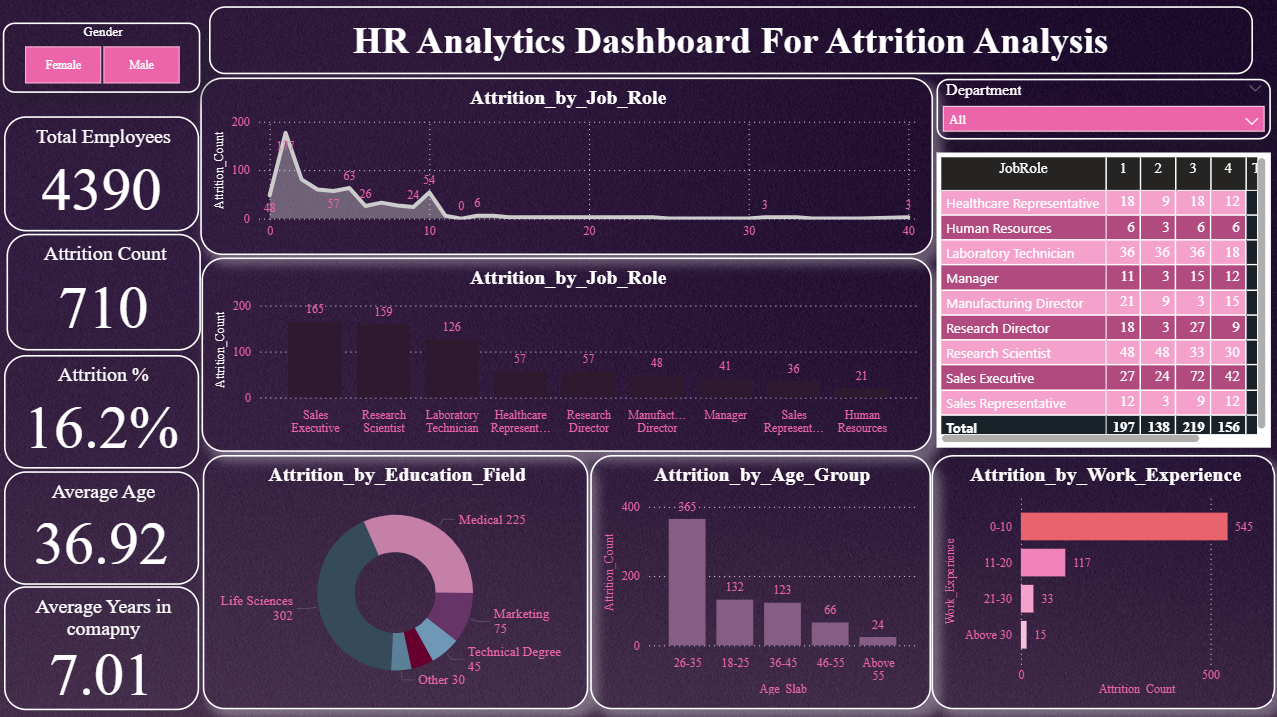

The dashboard page shown, as its layout file describes it:
{"tool":"powerbi","page":{"name":"Attrition Dashboard","canvas":[1280,720],"ordinal":0},"visuals":[{"type":"card","title":"Total Employees","fields":{"Values":["Sum(Attrition data (1).EmployeeCount)"]},"box":[5.4,115.7,195.6,115],"z":0},{"type":"card","title":"Attrition Count","fields":{"Values":["Sum(Attrition data (1).Attrition_count)"]},"box":[6.9,233.6,194.1,116.5],"z":1000},{"type":"donutChart","title":"Attrition_by_Education_Field","fields":{"Category":["Attrition data (1).EducationField"],"Y":["Sum(Attrition data (1).Attrition_count)"]},"box":[204,455.3,385.6,254.4],"z":2000},{"type":"card","title":"Average Age","fields":{"Values":["Avg(Attrition data (1).Age)"]},"box":[5.4,470.9,195.6,113.6],"z":3000},{"type":"clusteredColumnChart","title":"Attrition_by_Age_Group","fields":{"Y":["Sum(Attrition data (1).Attrition_count)"],"Category":["Attrition data (1).Age_group"]},"box":[590.7,455.1,340.8,254.5],"z":4000},{"type":"card","title":"Attrition %","fields":{"Values":["Attrition data (1).Attrition %"]},"box":[5.4,354.4,195.6,113.6],"z":5000},{"type":"clusteredBarChart","title":"Attrition_by_Work_Experience","fields":{"Y":["Sum(Attrition data (1).Attrition_count)"],"Category":["Attrition data (1).TotalWorkingYears (groups)"]},"box":[932.9,455.3,345,254.4],"z":6000},{"type":"card","title":"Average Years in comapny","fields":{"Values":["Avg(Attrition data (1).YearsAtCompany)"]},"box":[5.3,586.7,195.6,123.7],"z":7000},{"type":"clusteredColumnChart","title":"Attrition_by_Job_Role","fields":{"Y":["Sum(Attrition data (1).Attrition_count)"],"Category":["Attrition data (1).JobRole"]},"box":[202.9,257.6,730,194.4],"z":8000},{"type":"areaChart","title":"Attrition_by_Job_Role","fields":{"Category":["Attrition data (1).YearsAtCompany"],"Y":["Sum(Attrition data (1).Attrition_count)"]},"box":[201.5,77,732.5,177.5],"z":9000},{"type":"slicer","title":"Gender","fields":{"Values":["Attrition data (1).Gender"]},"box":[4,22,197.5,70],"z":10000},{"type":"textbox","box":[210,6,1044,68],"z":11000},{"type":"slicer","title":"Gender","fields":{"Values":["Attrition data (1).Department"]},"box":[937.3,78.7,334.4,61.1],"z":12000},{"type":"pivotTable","fields":{"Rows":["Attrition data (1).JobRole"],"Columns":["Attrition data (1).JobSatisfaction"],"Values":["Sum(Attrition data (1).Attrition_count)"]},"box":[937.3,153.1,334.4,295.6],"z":13000}]}

Visuals, with their boxes in screenshot pixels (x1, y1, x2, y2), scaled from the page's 1280x720 canvas onto the 1277x717 screenshot:
"Total Employees" card: Rect(5, 115, 201, 230)
"Attrition Count" card: Rect(7, 233, 201, 349)
"Attrition_by_Education_Field" donutChart: Rect(204, 453, 588, 707)
"Average Age" card: Rect(5, 469, 201, 582)
"Attrition_by_Age_Group" clusteredColumnChart: Rect(589, 453, 929, 707)
"Attrition %" card: Rect(5, 353, 201, 466)
"Attrition_by_Work_Experience" clusteredBarChart: Rect(931, 453, 1275, 707)
"Average Years in comapny" card: Rect(5, 584, 200, 707)
"Attrition_by_Job_Role" clusteredColumnChart: Rect(202, 257, 931, 450)
"Attrition_by_Job_Role" areaChart: Rect(201, 77, 932, 253)
"Gender" slicer: Rect(4, 22, 201, 92)
textbox: Rect(210, 6, 1251, 74)
"Gender" slicer: Rect(935, 78, 1269, 139)
pivotTable - Attrition data (1).JobRole x Attrition data (1).JobSatisfaction: Rect(935, 152, 1269, 447)
